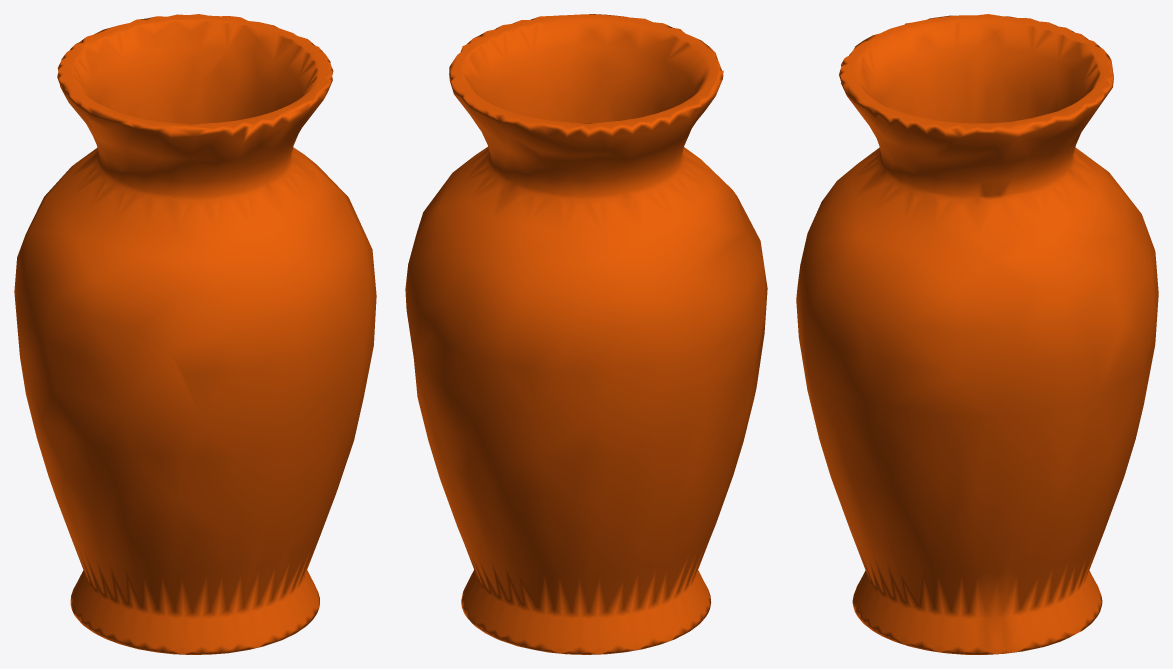
The model's file is Vase01.fbx.
The picture shows the model from 3 angles, left to right: view 1: azimuth 30°, elevation 25°; view 2: azimuth 150°, elevation 25°; view 3: azimuth 270°, elevation 25°; orthographic projection.
Parts seen in each view (by area): view 1: Vase; view 2: Vase; view 3: Vase.
Boxes of the visible parts, left/top/right/bottom form: Vase: left=14, top=14, right=376, bottom=654; Vase: left=405, top=14, right=767, bottom=654; Vase: left=796, top=14, right=1158, bottom=654.
Bounding box in the file's own units: 0.1164 × 0.1879 × 0.1159.
